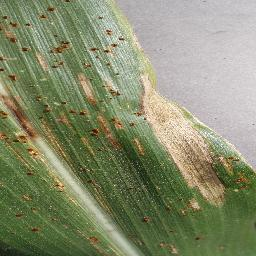Gray_Leaf_Spot: (39, 100, 133, 189), (166, 133, 256, 213), (138, 77, 235, 141), (0, 90, 59, 170), (33, 32, 78, 73), (94, 66, 122, 125), (91, 2, 127, 47), (0, 7, 32, 55), (39, 160, 77, 200), (133, 125, 150, 161), (15, 192, 35, 222), (77, 72, 95, 101), (83, 45, 120, 59), (0, 59, 17, 89), (89, 231, 109, 256), (159, 235, 180, 256), (31, 4, 59, 16), (135, 210, 157, 225), (28, 221, 44, 239), (215, 238, 229, 255), (189, 230, 202, 244), (28, 165, 38, 179)
